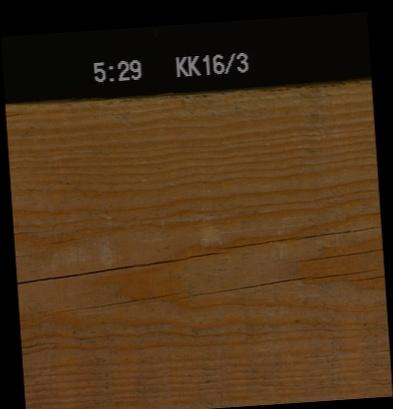split: (218, 228, 381, 245), (42, 294, 182, 311), (190, 277, 313, 291), (289, 248, 382, 261), (309, 267, 372, 278), (344, 272, 384, 281), (20, 338, 52, 348), (4, 109, 20, 117)
